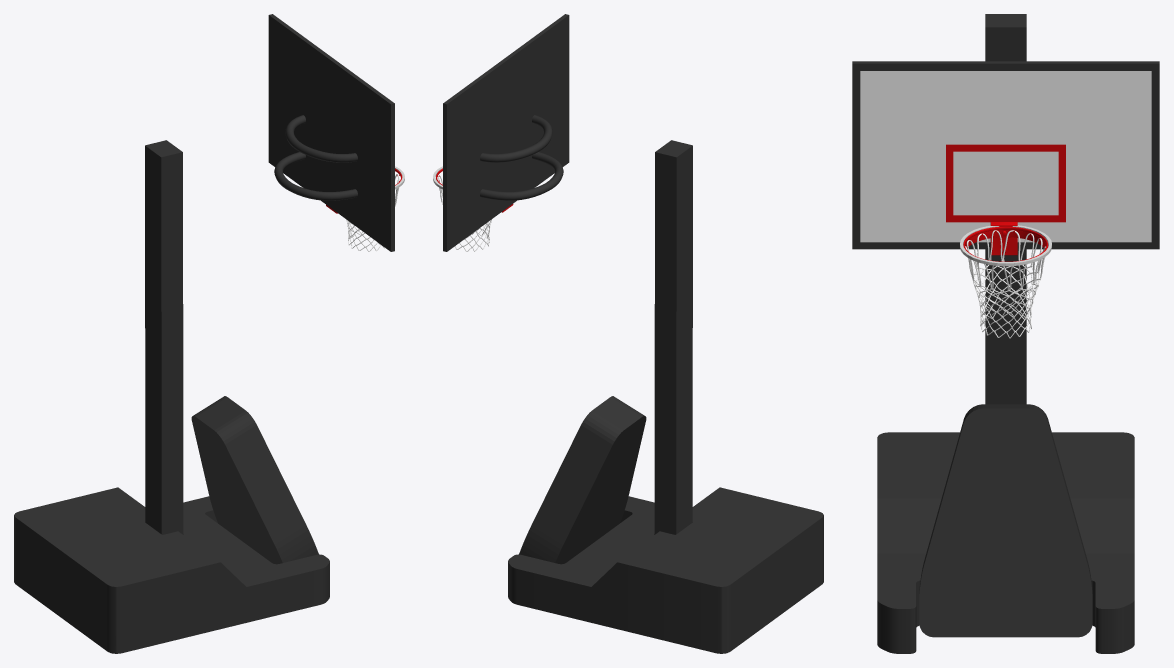
The model's file is Basketball_Hoop.fbx.
3 renders of one model, left to right at view 1: azimuth 30°, elevation 25°; view 2: azimuth 150°, elevation 25°; view 3: azimuth 270°, elevation 25°, orthographic. The views are drawn at different scales.
Parts seen in each view (by area): view 1: Cube, Cube.005, Cube.003, Cube.002, Cube.004; view 2: Cube, Cube.005, Cube.003, Cube.002, Cube.004; view 3: Cube.005, Cube.002, Cube, Cube.003, Plane01, Plane01.001, Circle.
Boxes of the visible parts, bbox=[...] form: Cube: bbox=[14, 487, 329, 653]; Cube.005: bbox=[268, 14, 394, 251]; Cube.003: bbox=[145, 140, 183, 534]; Cube.002: bbox=[191, 396, 318, 564]; Cube.004: bbox=[274, 115, 357, 200]; Cube: bbox=[508, 487, 823, 653]; Cube.005: bbox=[443, 14, 569, 251]; Cube.003: bbox=[654, 140, 692, 534]; Cube.002: bbox=[519, 396, 646, 564]; Cube.004: bbox=[480, 115, 563, 200]; Cube.005: bbox=[852, 61, 1159, 249]; Cube.002: bbox=[919, 404, 1092, 637]; Cube: bbox=[877, 432, 1134, 653]; Cube.003: bbox=[985, 14, 1026, 404]; Plane01: bbox=[965, 230, 1045, 338]; Plane01.001: bbox=[963, 222, 1048, 261]; Circle: bbox=[960, 225, 1051, 266].
Bounding box in the file's own units: 258 × 359 × 161.
